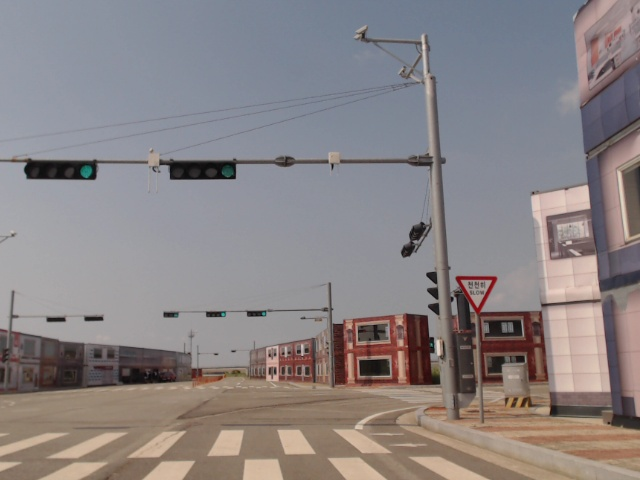straight_green_4: (24, 160, 97, 180), (170, 163, 237, 180), (247, 309, 266, 318), (207, 311, 226, 319)
